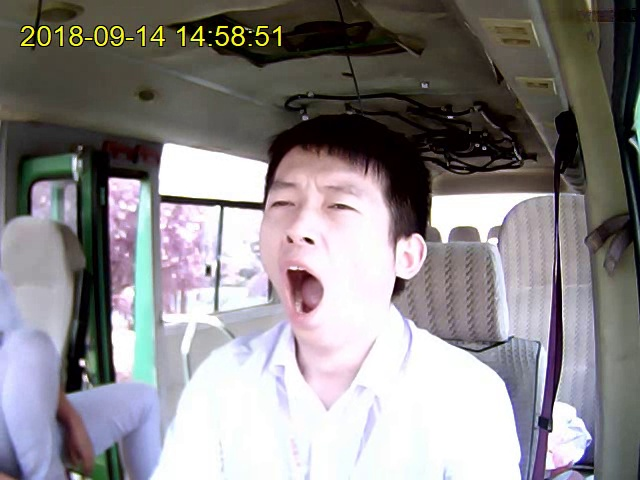open_mouth: (279, 255, 327, 330)
